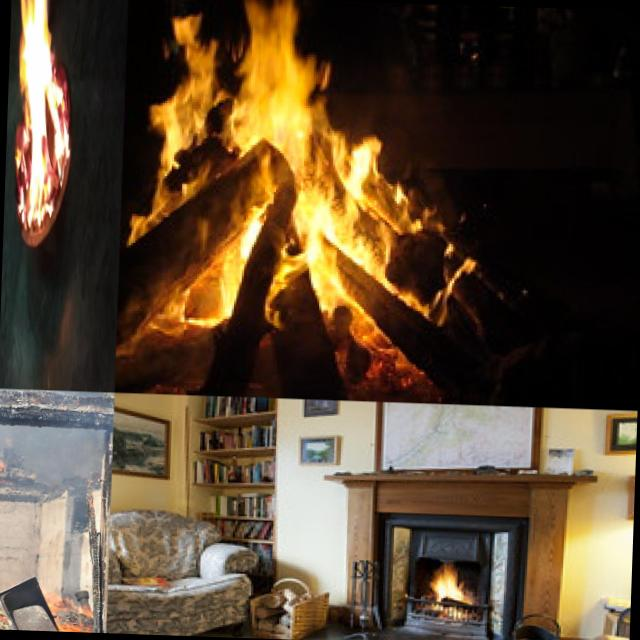fire: (119, 0, 425, 336), (6, 0, 73, 231), (42, 584, 108, 632), (422, 552, 472, 608)
